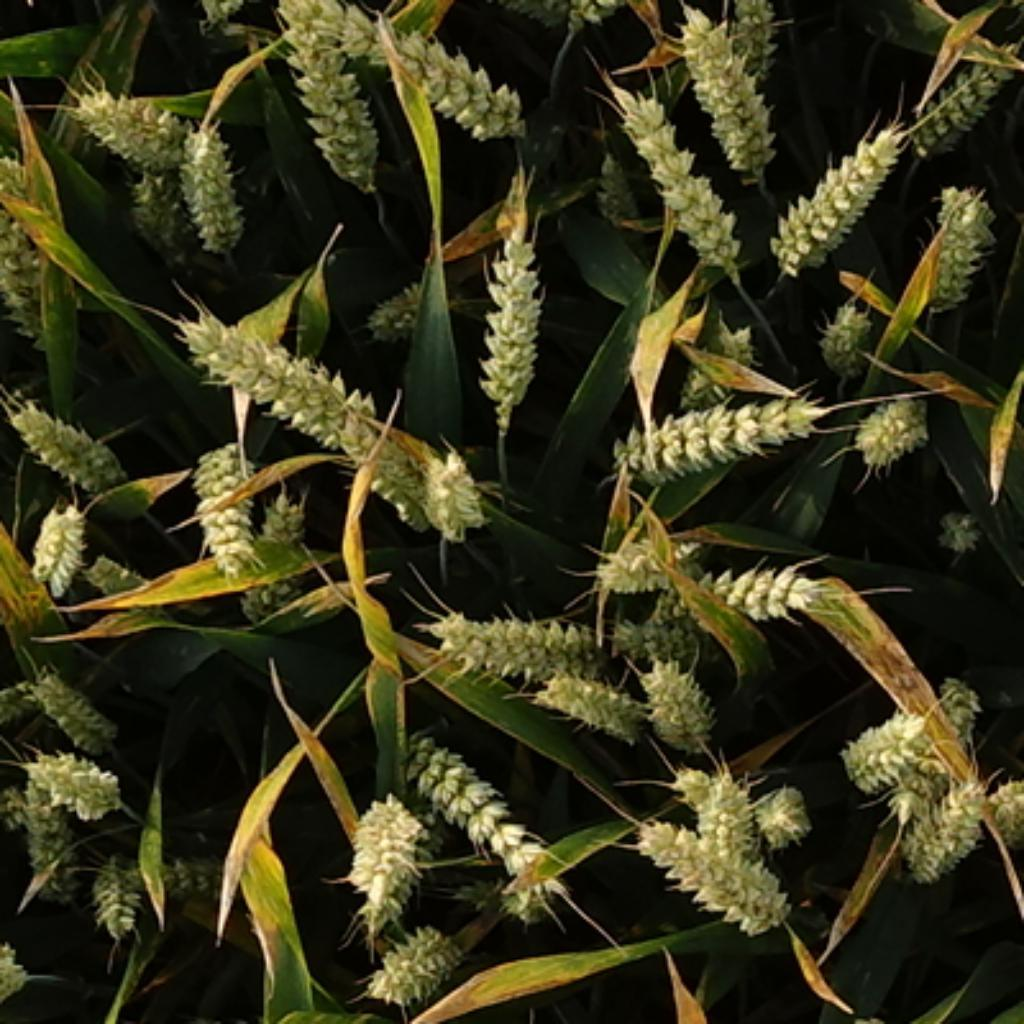0-0: (166, 291, 394, 455), (332, 2, 529, 145), (591, 381, 834, 486), (402, 737, 559, 896), (609, 92, 744, 266), (762, 112, 906, 268), (273, 2, 394, 186), (634, 798, 796, 934), (675, 20, 796, 189), (465, 222, 558, 417), (422, 596, 614, 680), (903, 28, 1021, 153), (64, 71, 194, 176), (642, 560, 839, 629), (7, 389, 133, 488), (337, 783, 430, 911), (913, 174, 1003, 304), (184, 432, 268, 570), (898, 788, 998, 901), (834, 693, 947, 793), (2, 145, 56, 345), (166, 117, 248, 245), (242, 481, 317, 620), (345, 407, 424, 535), (366, 921, 473, 1013), (17, 744, 128, 829), (398, 448, 490, 548), (665, 312, 747, 424), (133, 847, 263, 916), (25, 665, 125, 750), (115, 166, 192, 276), (591, 517, 698, 596), (535, 663, 645, 732), (12, 780, 84, 883), (849, 378, 939, 460), (632, 663, 711, 755), (688, 757, 762, 852), (76, 540, 171, 611), (360, 256, 440, 337), (87, 842, 156, 934), (23, 496, 89, 583), (732, 2, 791, 94), (586, 148, 645, 238), (609, 611, 711, 663), (880, 762, 944, 842), (814, 291, 880, 368), (752, 773, 811, 839), (536, 0, 634, 39), (926, 670, 980, 739), (655, 760, 716, 808), (983, 768, 1024, 839), (931, 494, 983, 547), (0, 942, 34, 1011), (499, 885, 544, 928)
